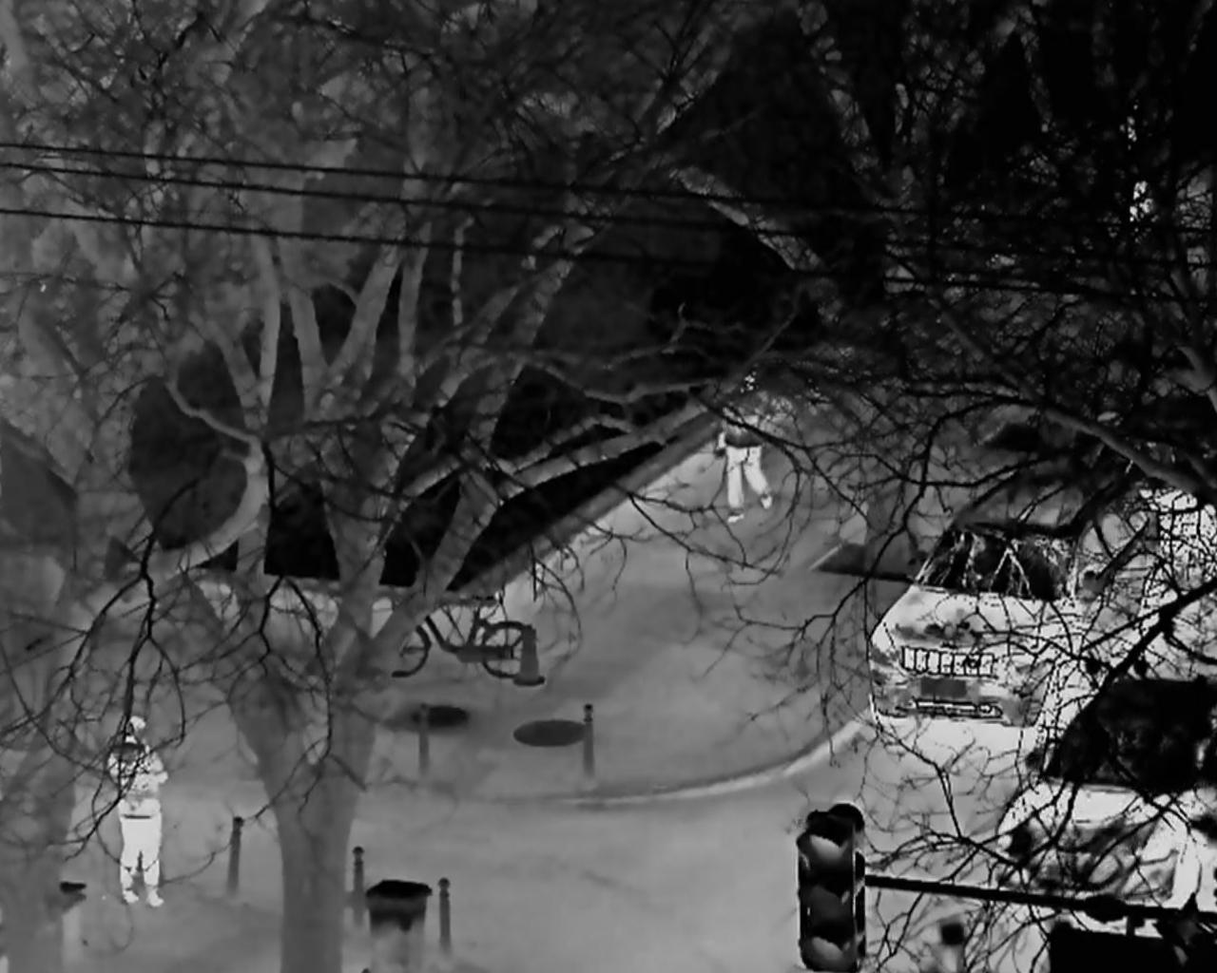person: (106, 714, 168, 909), (714, 410, 772, 523)
